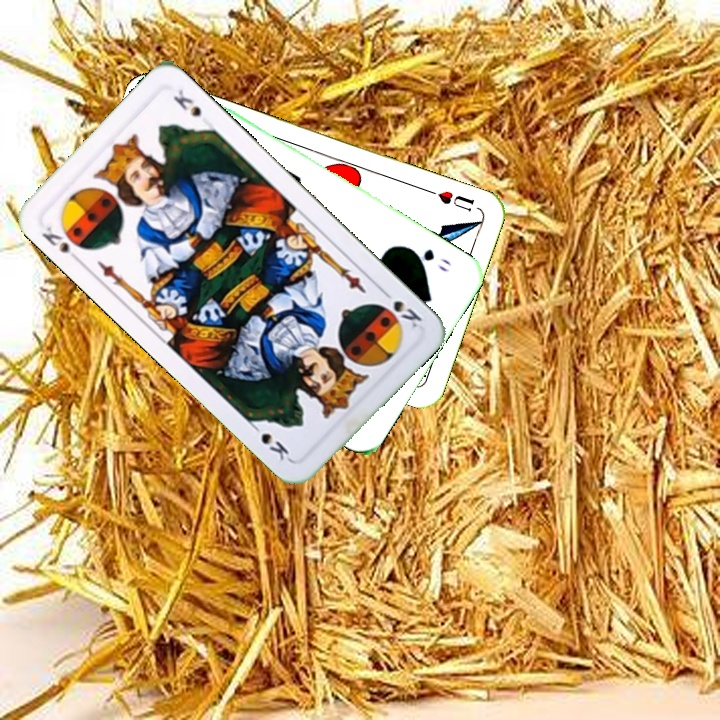GO: (404, 243, 453, 275)
HU: (423, 185, 477, 214)
SK: (377, 284, 425, 331), (37, 222, 84, 266)
